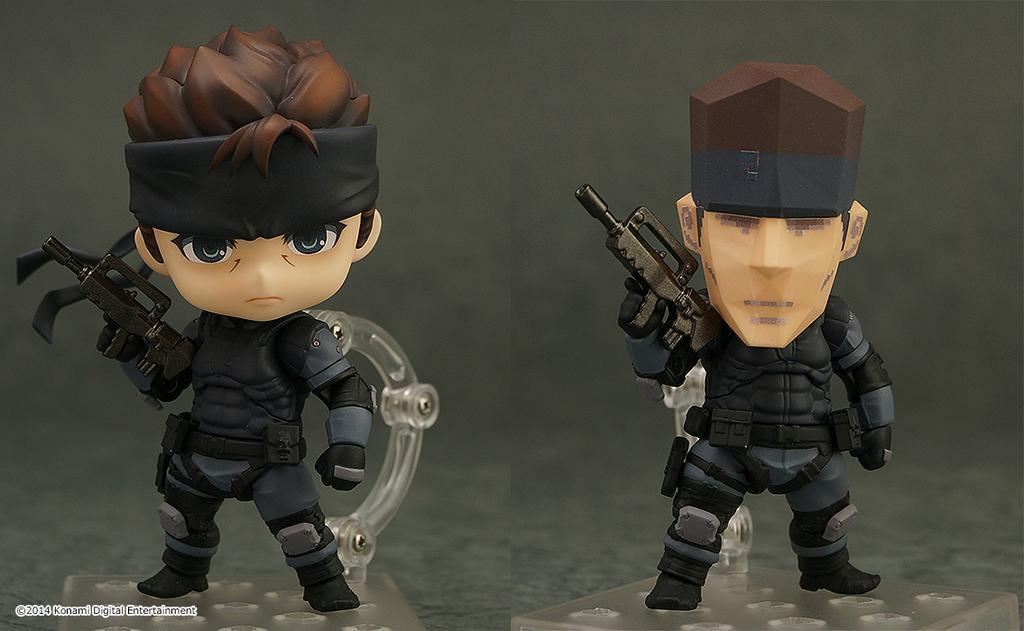Rifle: (21, 227, 194, 399), (570, 176, 737, 353)
